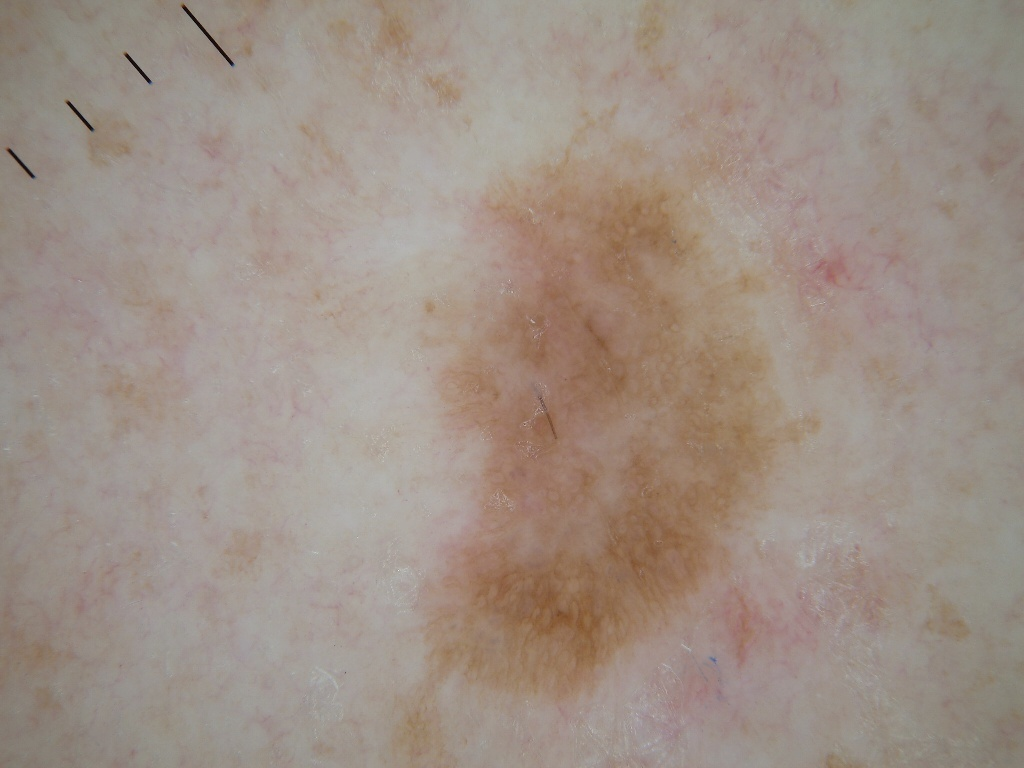Detected Lesion: (410, 154, 804, 722)
